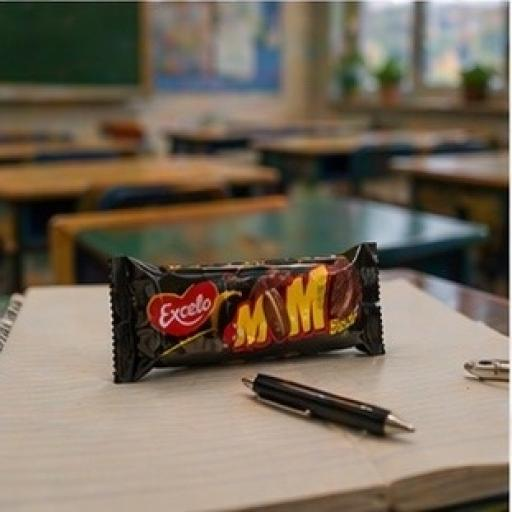MOMO: (70, 195, 433, 445)
